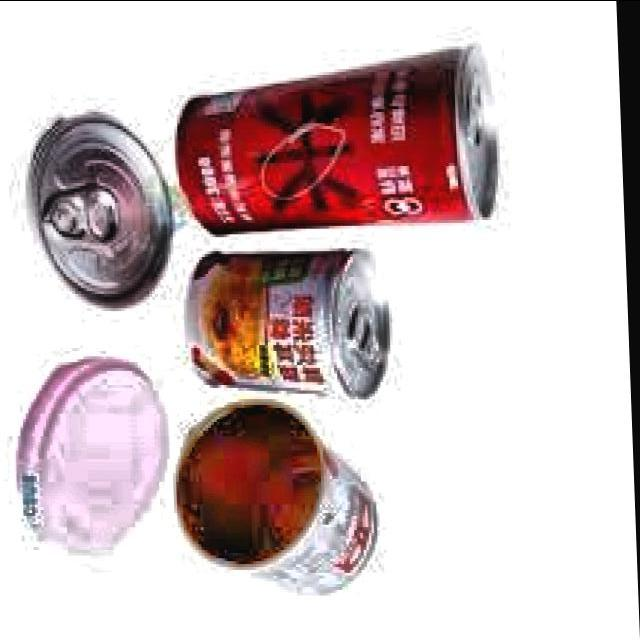Aluminum Can: (166, 36, 516, 242), (169, 389, 391, 603), (182, 234, 402, 403), (17, 104, 183, 312)
